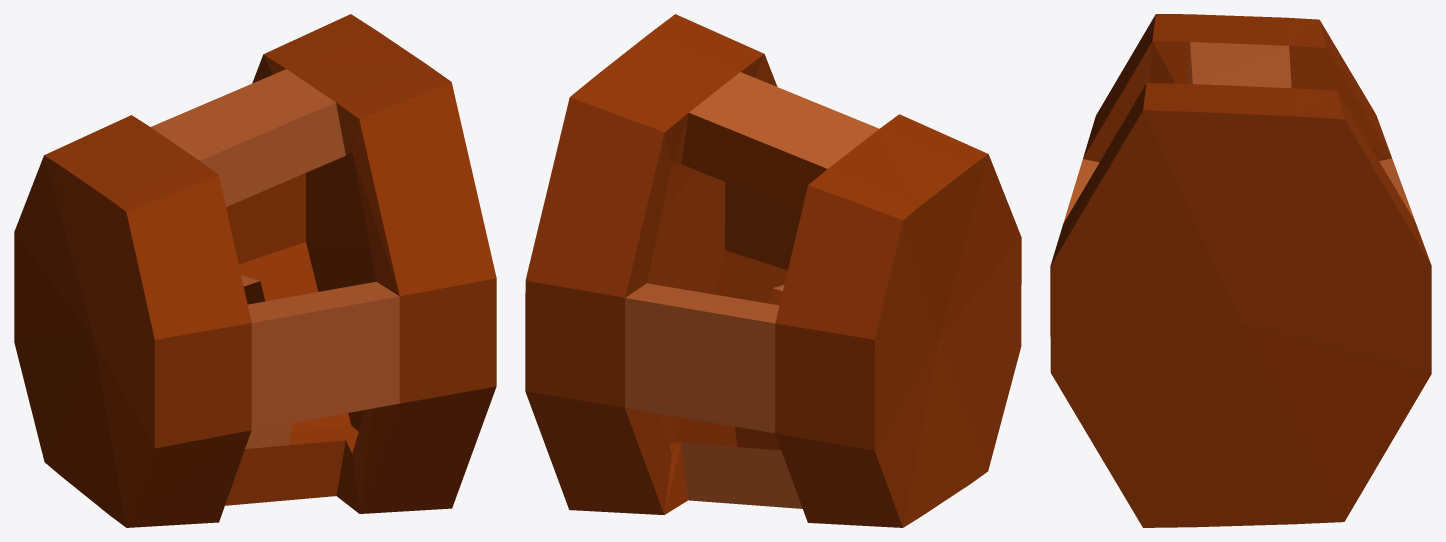
File: Bracer 05.FBX
3 renders of one model, left to right at view 1: azimuth 30°, elevation 25°; view 2: azimuth 150°, elevation 25°; view 3: azimuth 270°, elevation 25°, orthographic. The views are drawn at different scales.
Visible parts, largest first — view 1: Bracer 05; view 2: Bracer 05; view 3: Bracer 05.
Boxes of the visible parts, x1,y1,x2,y2 form: Bracer 05: (14,14,496,527); Bracer 05: (525,14,1021,527); Bracer 05: (1050,14,1431,527).
Bounding box in the file's own units: 14.18 × 14.53 × 17.54.
